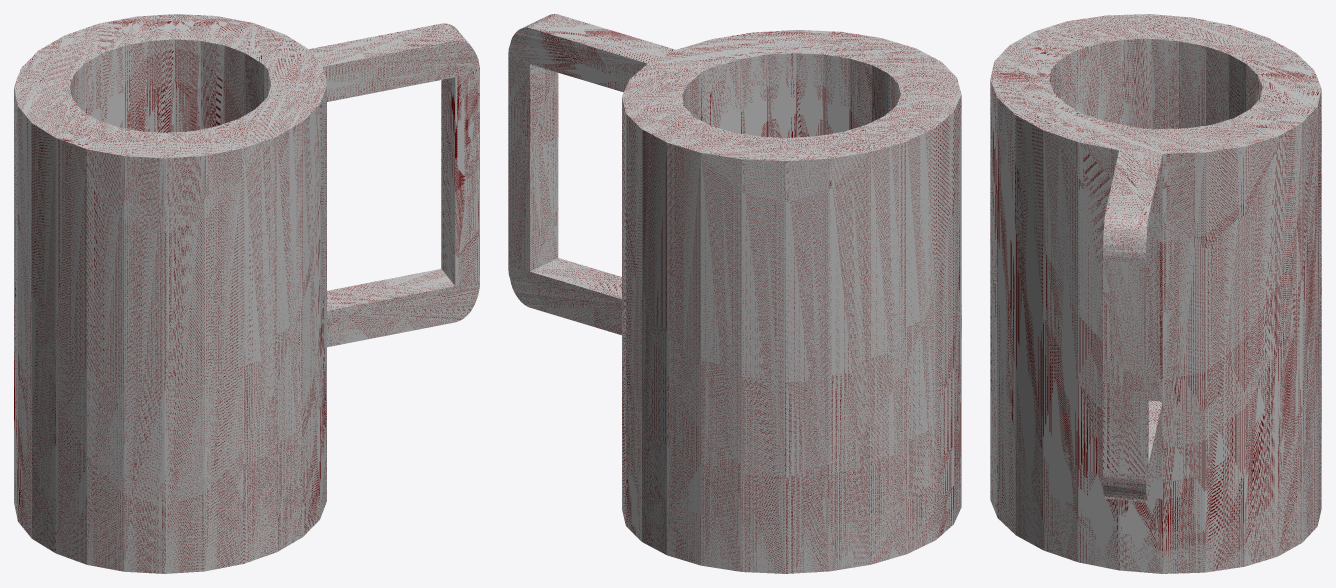
3 views of the same model, side by side, from view 1: azimuth 30°, elevation 25°; view 2: azimuth 150°, elevation 25°; view 3: azimuth 270°, elevation 25° (orthographic).
Parts seen in each view (by area): view 1: mesh1_mesh1-geometry; view 2: mesh1_mesh1-geometry; view 3: mesh1_mesh1-geometry.
Part boxes in pixels (x1,y1,x2,y2): mesh1_mesh1-geometry: [14, 14, 479, 573]; mesh1_mesh1-geometry: [508, 14, 961, 573]; mesh1_mesh1-geometry: [990, 14, 1321, 573].
Size of the model in its own units: 0.6627 by 0.6092 by 0.4356.
